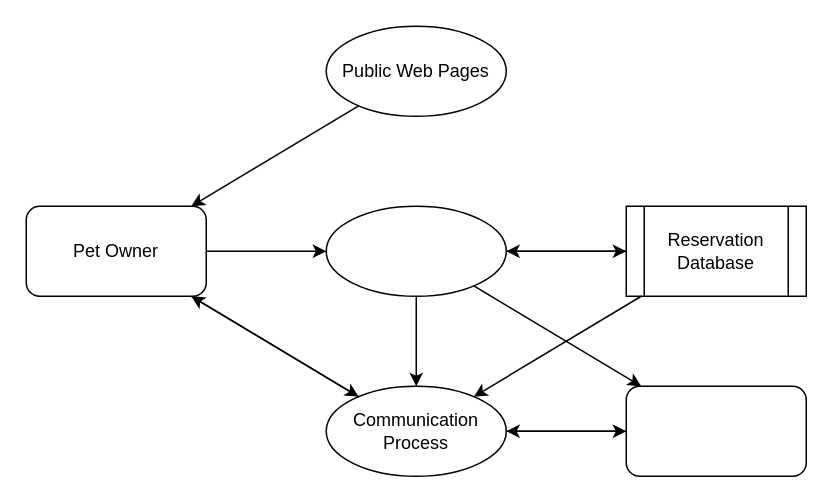
Some shapes in this 833 by 503 pixel diagram are drawn without their labels. The centre of each missing label's shape, as x and y in pixels:
"Employee" goes at point (715, 430).
"Reservation Process" goes at point (415, 250).
